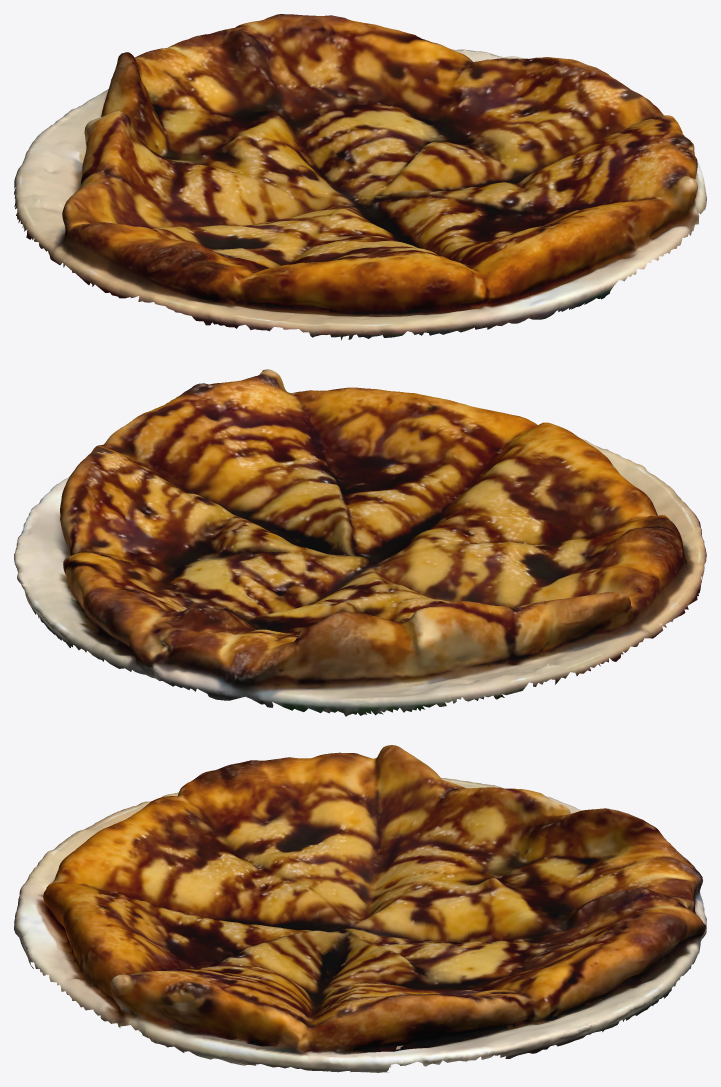
Rendered from chikonan.glb.
3 views of the same model, one above another, from view 1: azimuth 30°, elevation 25°; view 2: azimuth 150°, elevation 25°; view 3: azimuth 270°, elevation 25° (orthographic).
Parts seen in each view (by area): view 1: model; view 2: model; view 3: model.
Part boxes in pixels (x1,y1,x2,y2): model: [14, 14, 706, 340]; model: [14, 369, 706, 716]; model: [14, 745, 706, 1072].
Size of the model in its own units: 3.68 by 0.4776 by 3.7.
3 materials, 3 textured.
